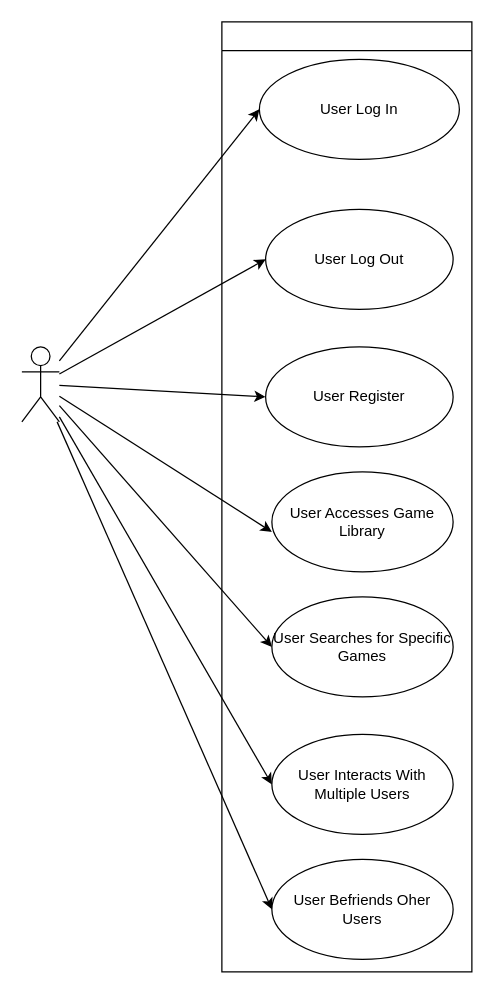
Image size: 494x994. Some labels were removed from this diagram. Each missing label, with the centre of its shape:
Actor: the point at 40,384
System Boundary: the point at 346,496
